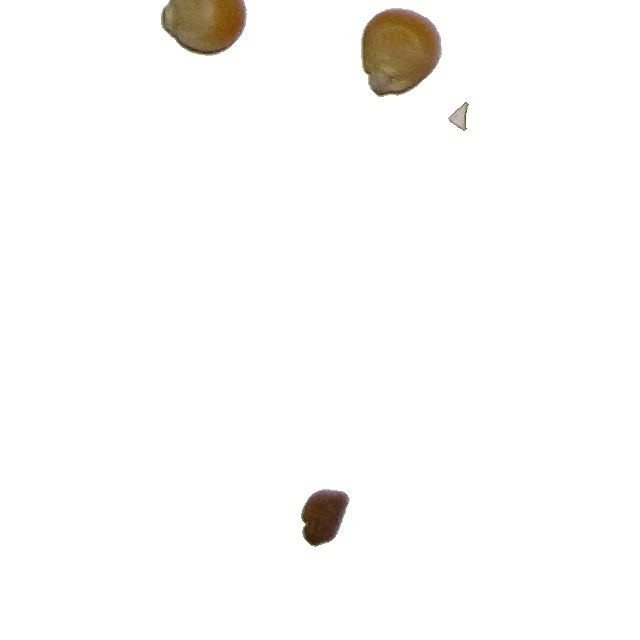buckwheat: (300, 491, 351, 551)
mais: (360, 7, 443, 98)
other: (447, 101, 470, 132)
